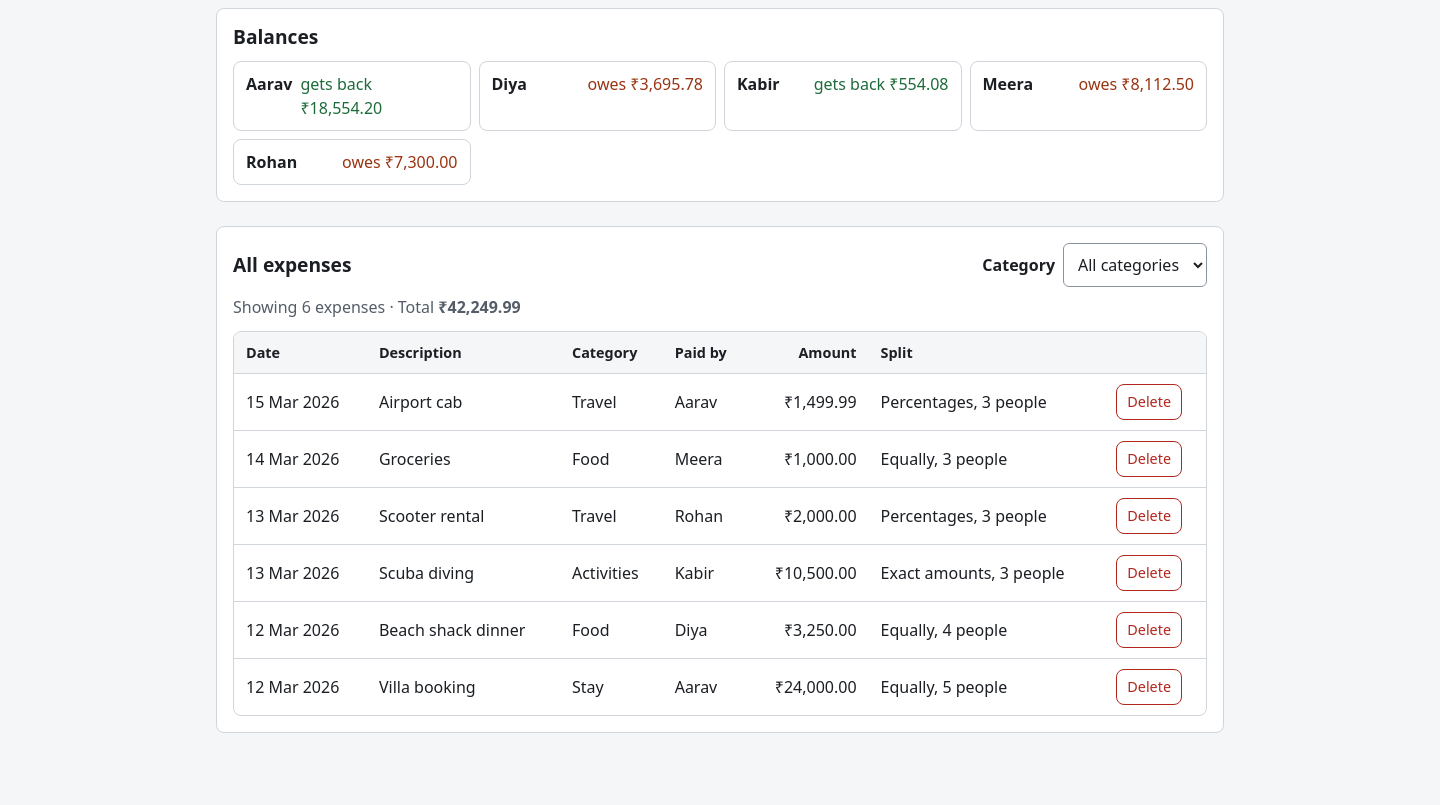
Test: deleting an expense › shows the empty state once every expense is deleted, and everyone is settled up
(page scrolled)
What coordinates should you click on to do the following:
click the button "Delete" in the row of "Villa booking"
I would click on:
 (1149, 687)
Its box is [1116,669,1182,705].
(page scrolled)
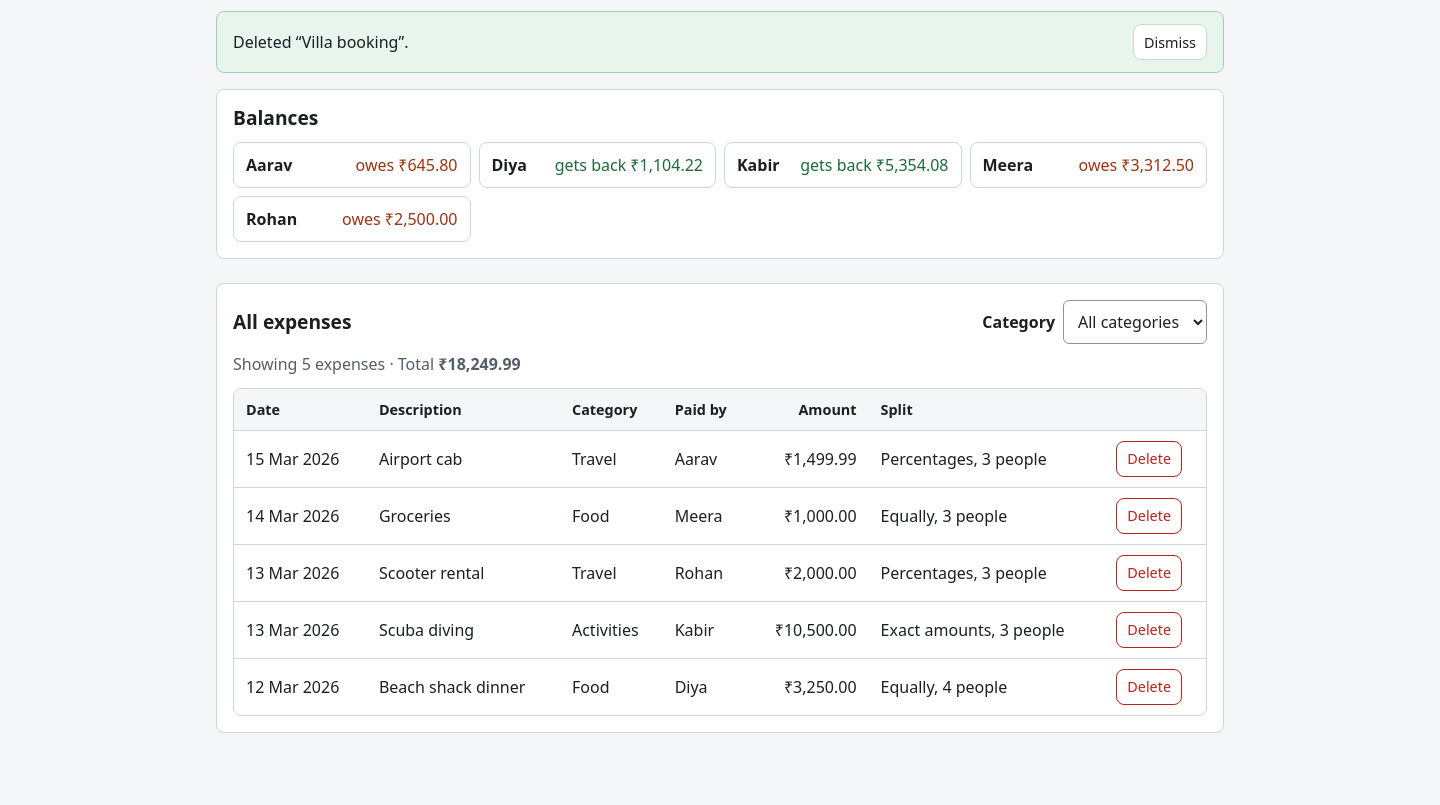
What coordinates should you click on to do the following:
click the button "Delete" in the row of "12 Mar 2026"
I would click on:
 (1149, 687)
Its box is [1116,669,1182,705].
(page scrolled)
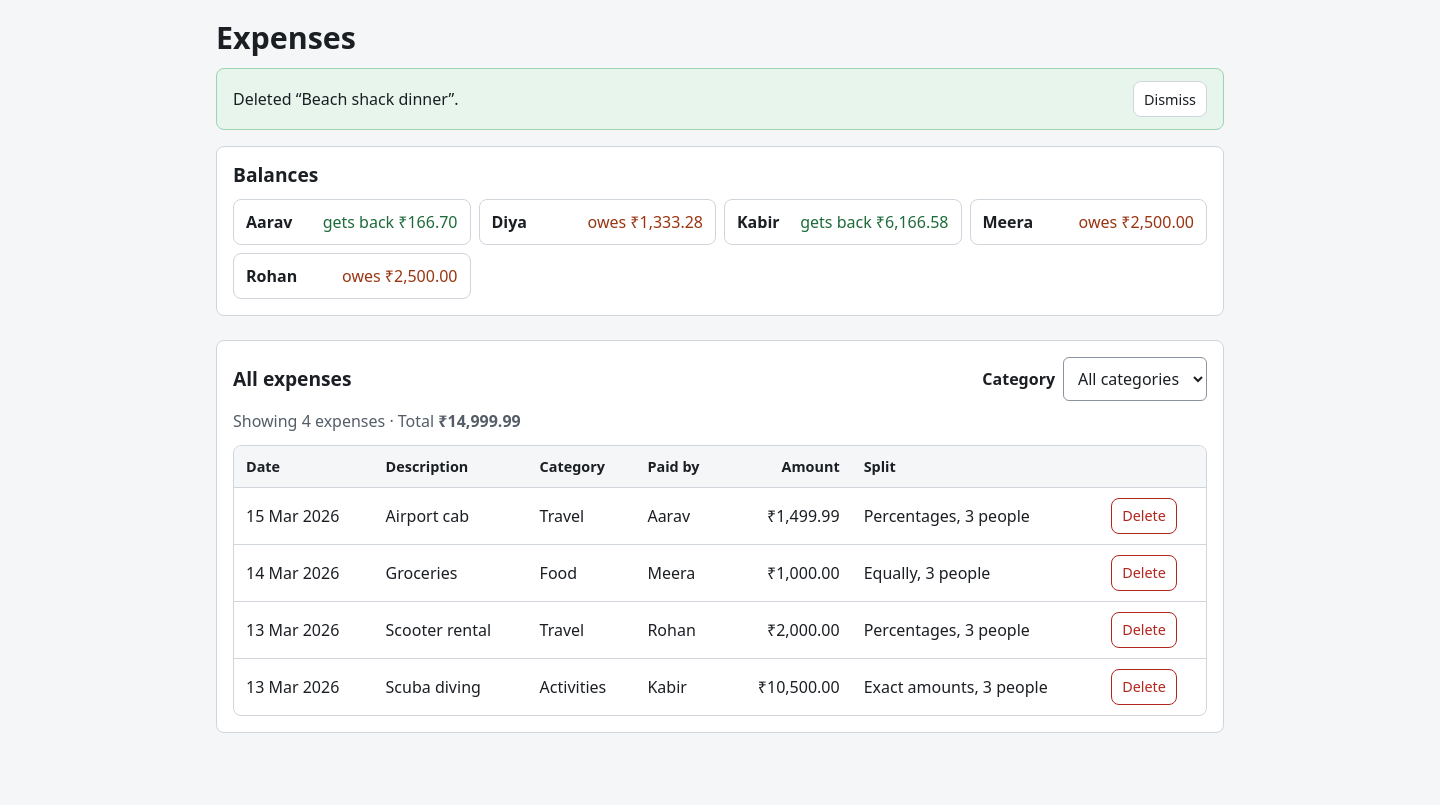
What coordinates should you click on to do the following:
click the button "Delete" in the row of "Scuba diving"
I would click on:
 (1144, 687)
Its box is [1111,669,1177,705].
(page scrolled)
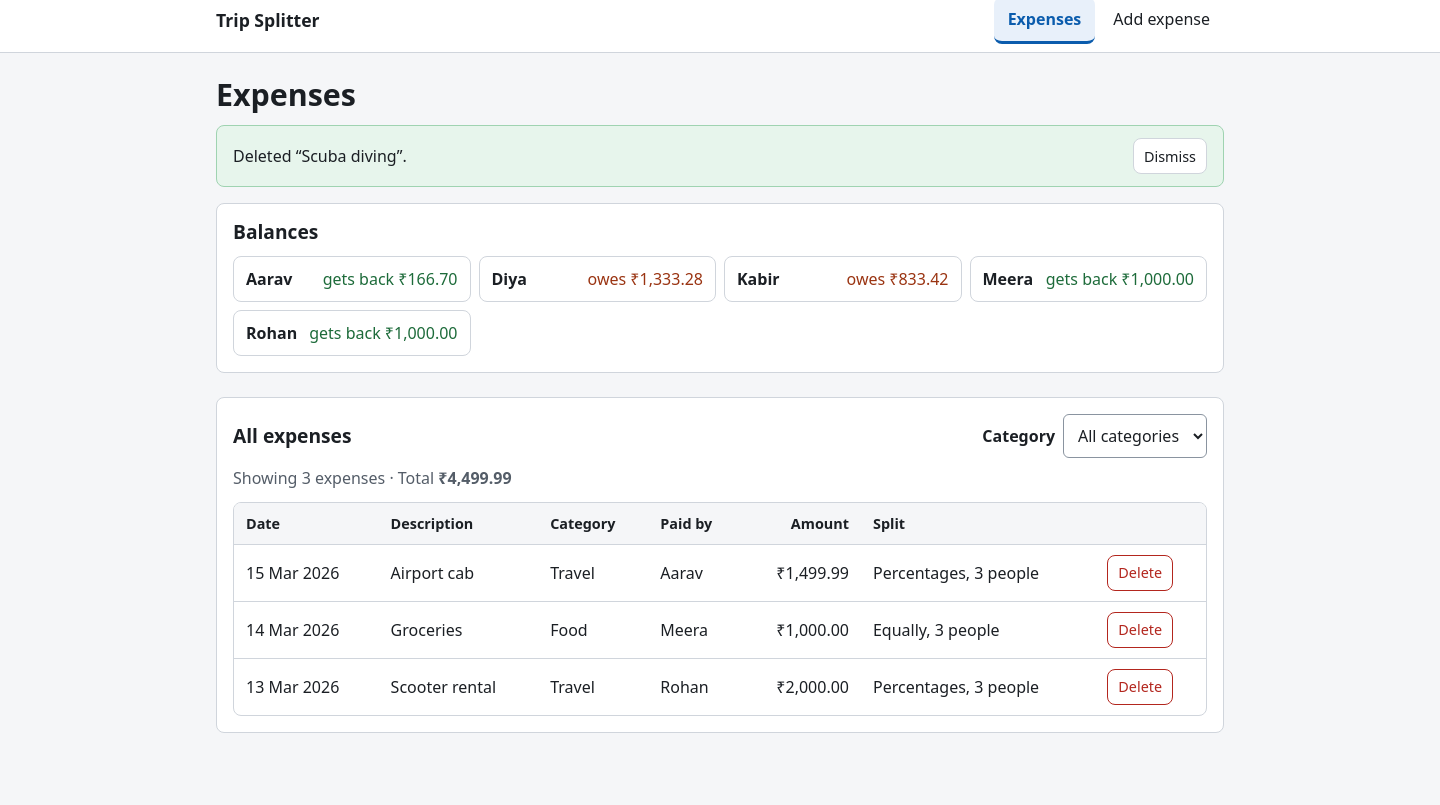
What coordinates should you click on to do the following:
click the button "Delete" in the row of "13 Mar 2026"
I would click on:
 (1140, 687)
Its box is [1107,669,1173,705].
(page scrolled)
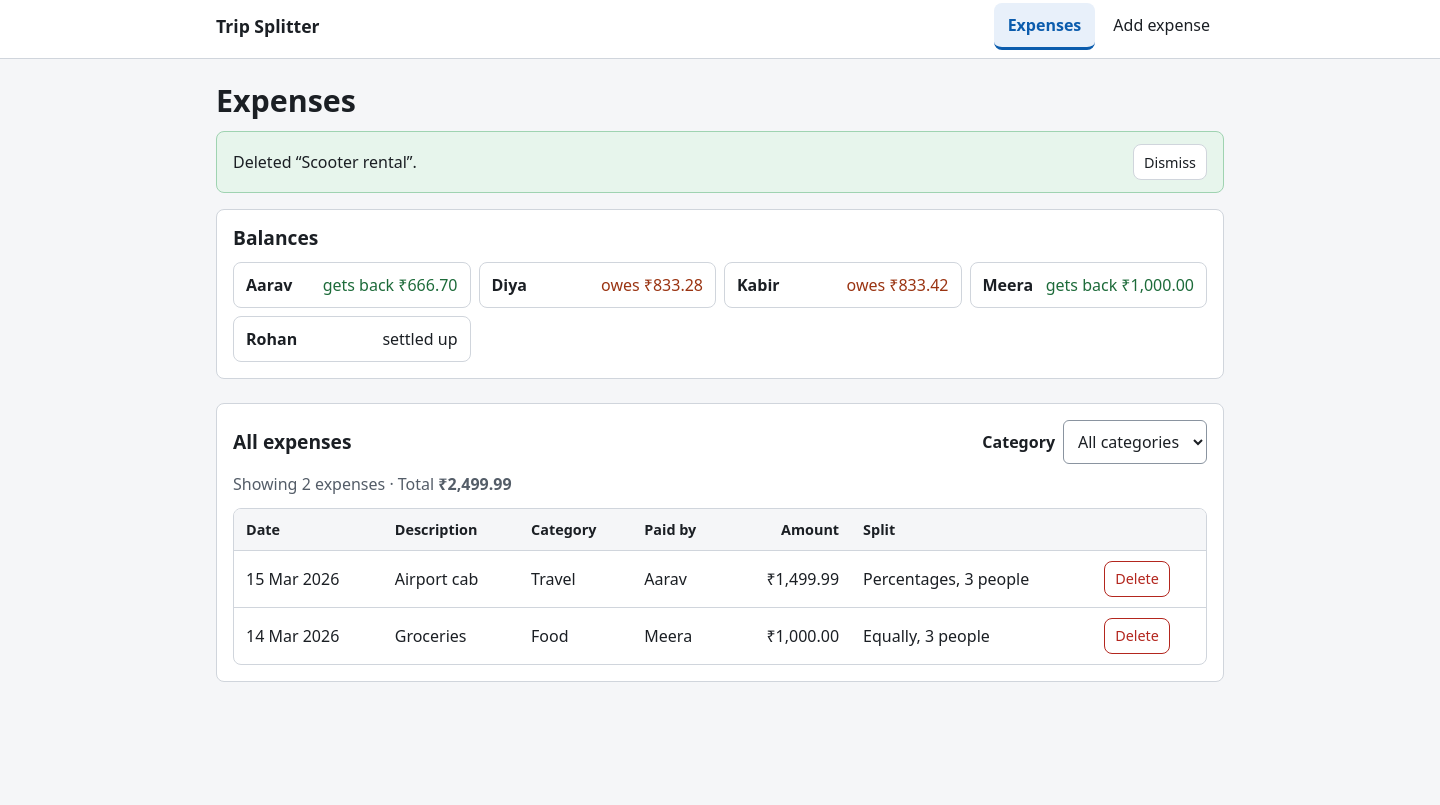
What coordinates should you click on to do the following:
click the button with aria-label "Delete Groceries"
I would click on:
 (1137, 636)
Its box is [1104,618,1170,654].
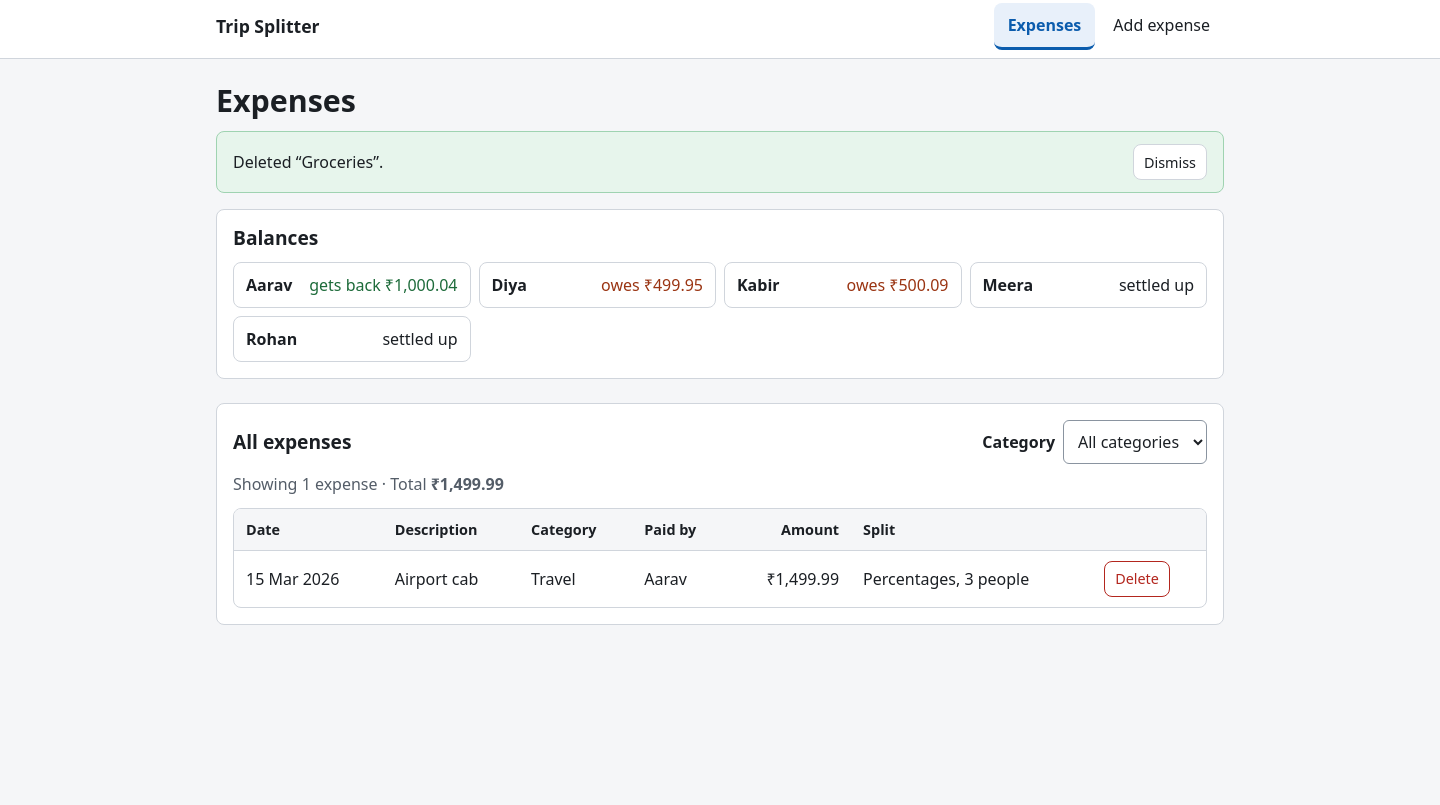
What coordinates should you click on to do the following:
click the button "Delete"
I would click on:
 (1137, 579)
Its box is [1104,561,1170,597].
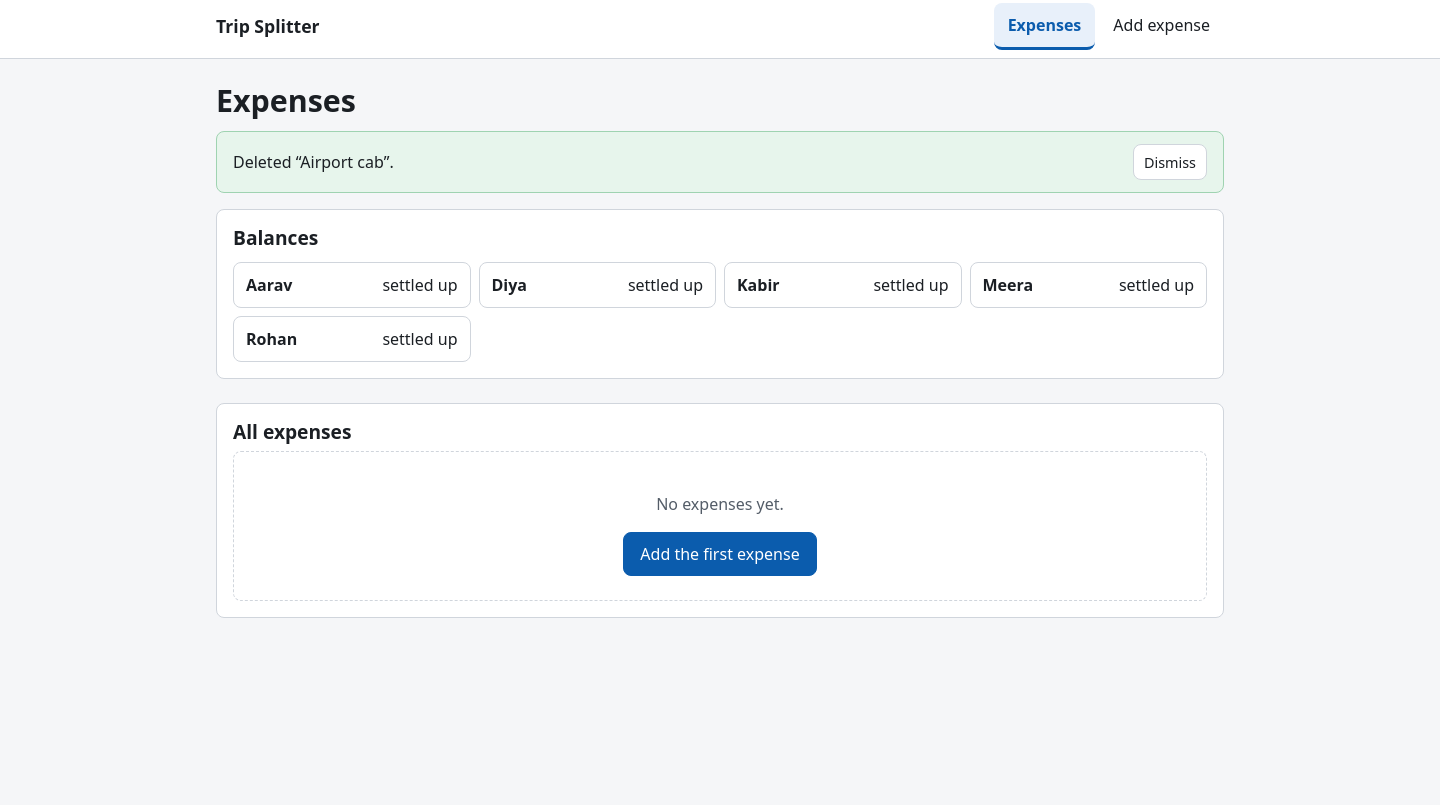
Expected: the text "settled up" is shown 5 times, [382,272,458,296]; [628,272,703,296]; [873,272,948,296]; [1119,272,1194,296]; [382,326,458,350]
Result: the text "No expenses yet." is shown at [656,492,784,514]
